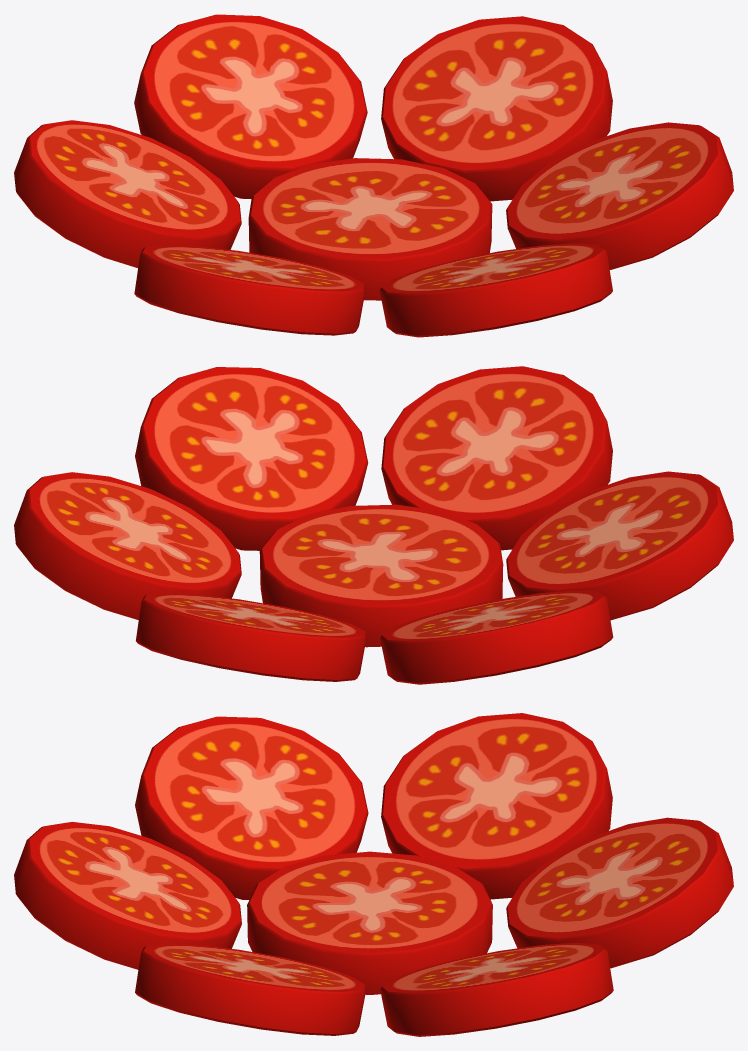
The model's file is SM_Tomato_Plate.fbx.
3 views of the same model, one above another, from view 1: azimuth 30°, elevation 25°; view 2: azimuth 150°, elevation 25°; view 3: azimuth 270°, elevation 25° (orthographic).
Parts seen in each view (by area): view 1: Tomato_Plate; view 2: Tomato_Plate; view 3: Tomato_Plate.
Boxes of the visible parts, x1,y1,x2,y2 form: Tomato_Plate: (14,14,733,337); Tomato_Plate: (14,366,733,684); Tomato_Plate: (14,713,733,1036).
Size of the model in its own units: 113 by 20.61 by 123.
